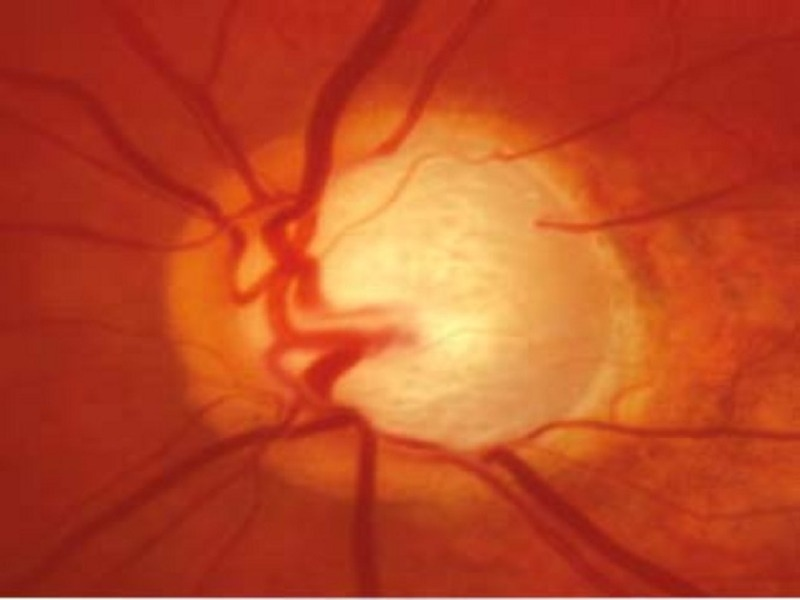Optic Cup: (314, 161, 623, 444)
Optic Disc: (164, 110, 693, 498)
